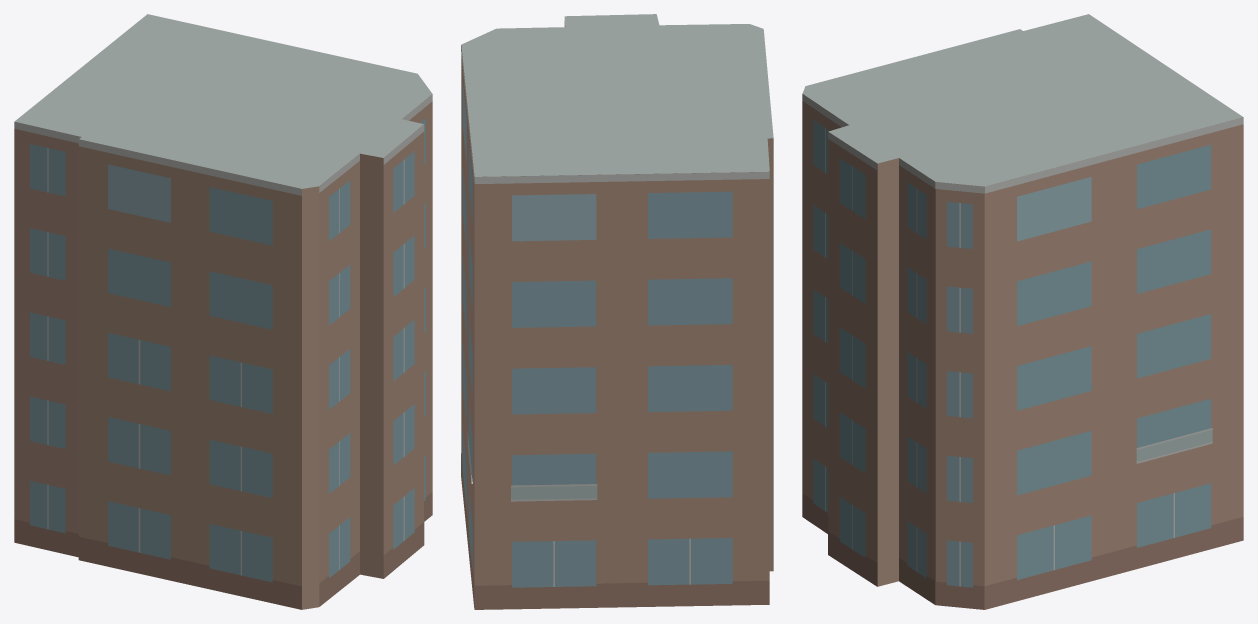
The model's file is survey-upis-32715290.glb.
The picture shows the model from 3 angles, left to right: view 1: azimuth 30°, elevation 25°; view 2: azimuth 150°, elevation 25°; view 3: azimuth 270°, elevation 25°; orthographic projection. The views are drawn at different scales.
Visible parts, largest first — view 1: survey-upis-32715290.tmp; view 2: survey-upis-32715290.tmp; view 3: survey-upis-32715290.tmp.
Boxes of the visible parts, box(x1,y1,x2,y2) form: survey-upis-32715290.tmp: box(14, 14, 432, 609); survey-upis-32715290.tmp: box(461, 14, 773, 609); survey-upis-32715290.tmp: box(802, 14, 1243, 609).
Size of the model in its own units: 12.78 by 14.6 by 13.8.
